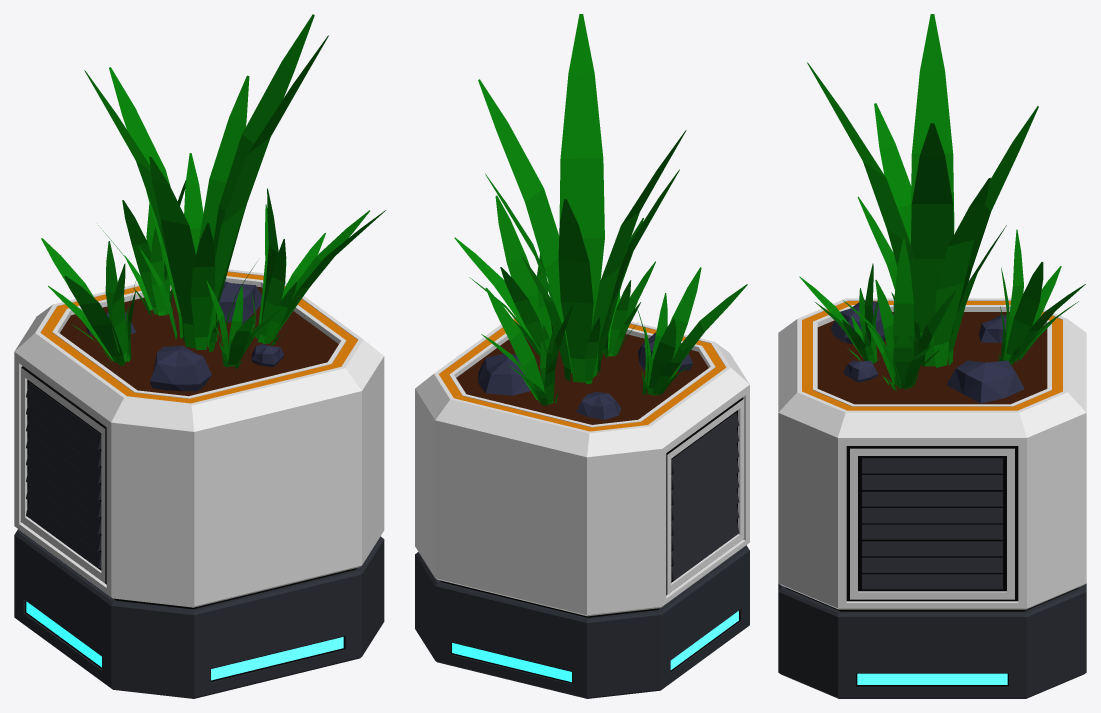
Rendered from SM_Botanical_Planter_Square_Small.fbx.
3 renders of one model, left to right at view 1: azimuth 30°, elevation 25°; view 2: azimuth 150°, elevation 25°; view 3: azimuth 270°, elevation 25°, orthographic. The views are drawn at different scales.
Visible parts, largest first — view 1: SM_Botanical_Planter_Square_Small; view 2: SM_Botanical_Planter_Square_Small; view 3: SM_Botanical_Planter_Square_Small.
Part boxes in pixels (bbox=[...]): SM_Botanical_Planter_Square_Small: bbox=[14, 14, 385, 698]; SM_Botanical_Planter_Square_Small: bbox=[415, 14, 749, 698]; SM_Botanical_Planter_Square_Small: bbox=[778, 14, 1086, 698].
Size of the model in its own units: 42.95 by 80.45 by 37.25.
